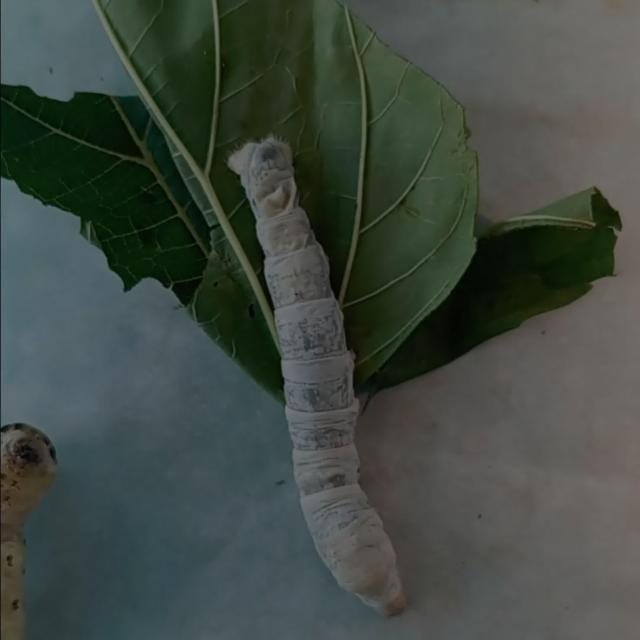Grasserie: (218, 126, 438, 627)
